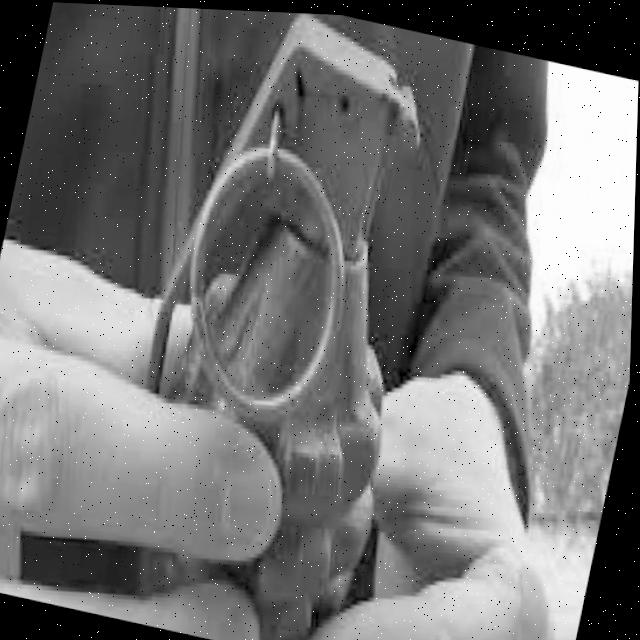grenade: (40, 2, 526, 640)
